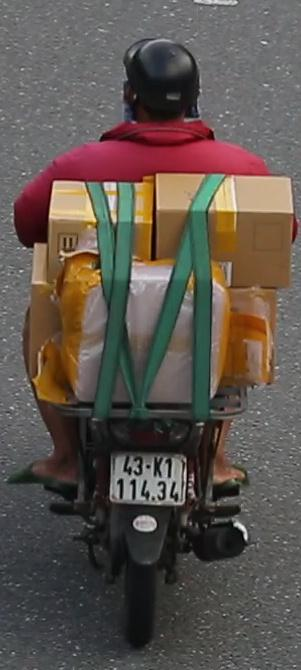LP: (107, 440, 191, 524)
helmet: (118, 34, 205, 129)
